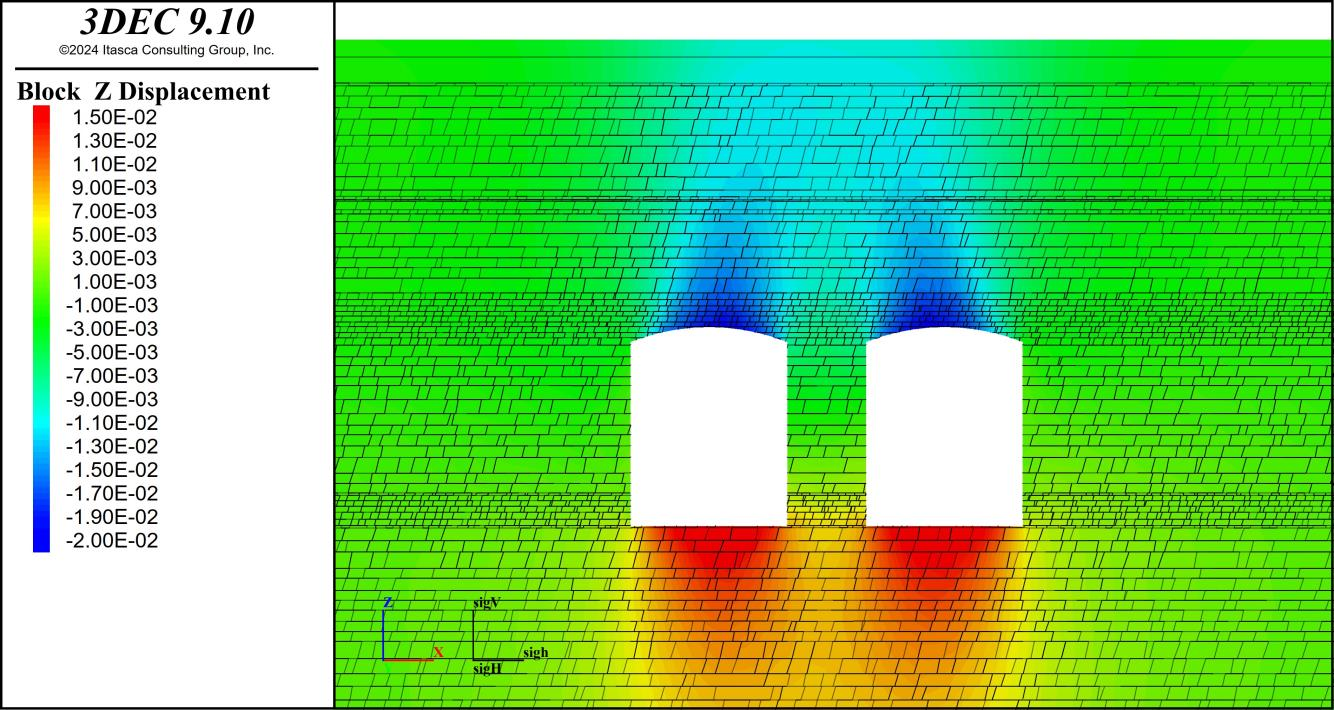crown: (918, 301, 965, 324), (686, 306, 729, 328)
label: (1, 1, 331, 708)
tunnel-opening: (866, 327, 1022, 525), (630, 328, 785, 527)
